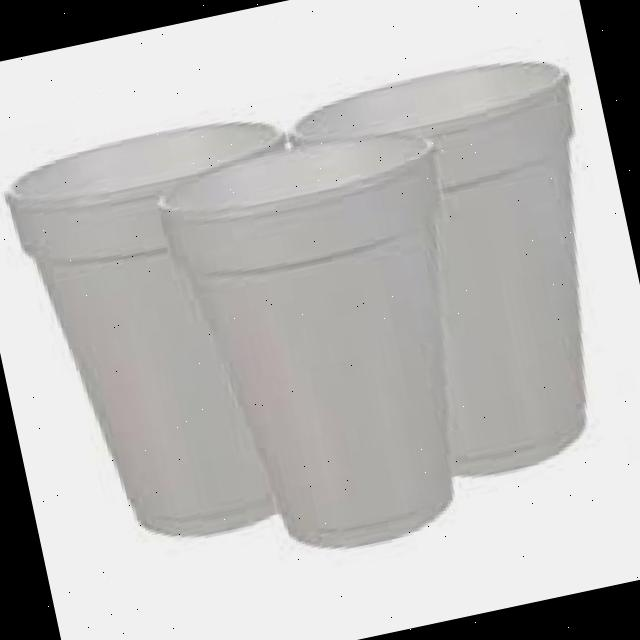trash: (0, 102, 364, 555), (153, 115, 512, 569), (287, 46, 640, 494)
